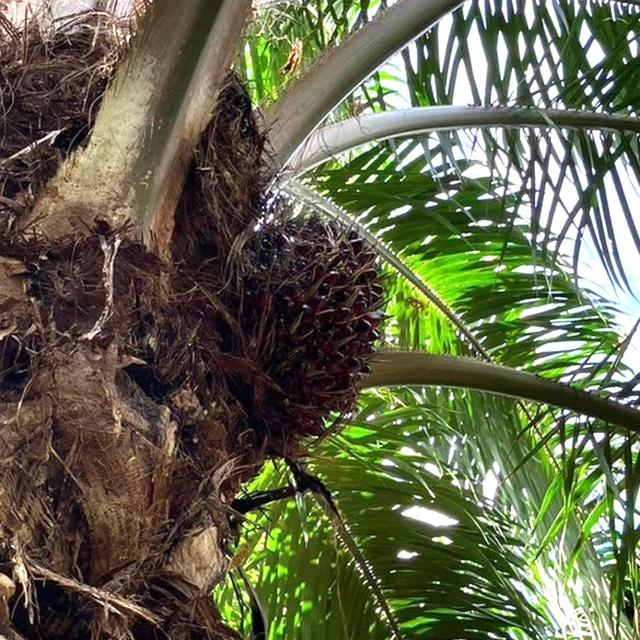ripe: (190, 200, 399, 471)
